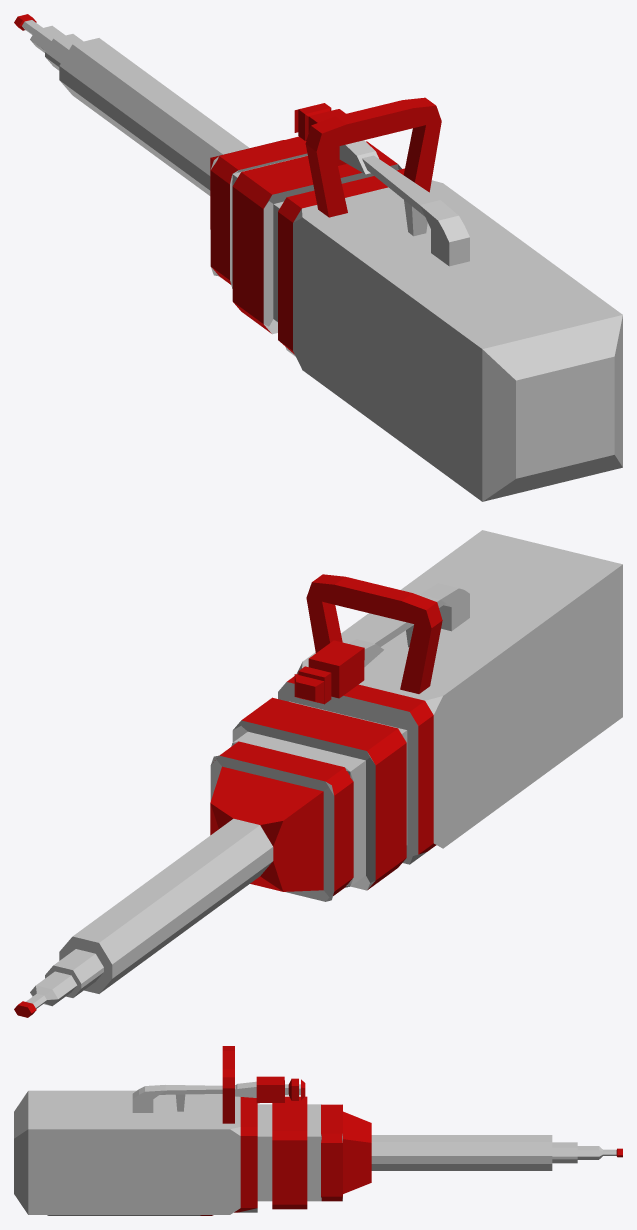
File: minigun_laser.obj
The picture shows the model from 3 angles, top to bottom: view 1: azimuth 30°, elevation 25°; view 2: azimuth 150°, elevation 25°; view 3: azimuth 270°, elevation 25°; orthographic projection. The views are drawn at different scales.
Visible parts, largest first — view 1: Cube; view 2: Cube; view 3: Cube.
Part boxes in pixels (x1,y1,x2,y2): Cube: (14,14,622,501); Cube: (14,530,622,1017); Cube: (14,1046,622,1215).
Size of the model in its own units: 1.93 by 3.27 by 12.66.
